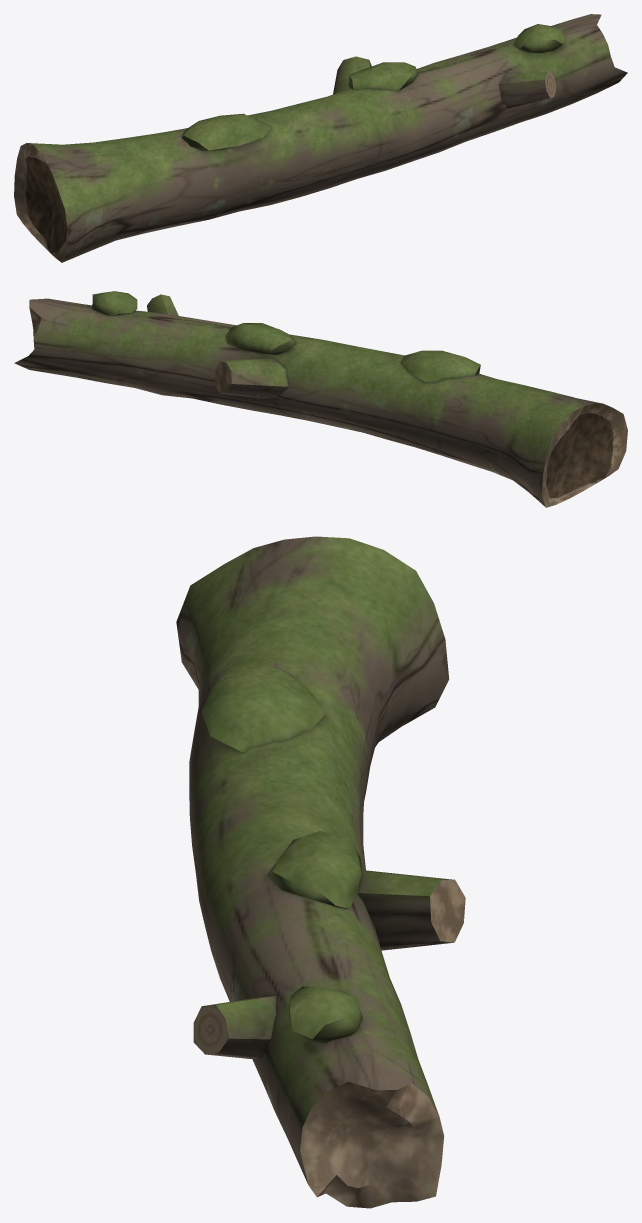
File: fm_log_mossy_fallen_c.glb
3 renders of one model, top to bottom at view 1: azimuth 30°, elevation 25°; view 2: azimuth 150°, elevation 25°; view 3: azimuth 270°, elevation 25°, orthographic. The views are drawn at different scales.
Visible parts, largest first — view 1: fm_log_mossy_fallen_c; view 2: fm_log_mossy_fallen_c; view 3: fm_log_mossy_fallen_c.
Boxes of the visible parts, left/top/right/bottom form: fm_log_mossy_fallen_c: left=14, top=14, right=627, bottom=262; fm_log_mossy_fallen_c: left=14, top=291, right=627, bottom=507; fm_log_mossy_fallen_c: left=176, top=536, right=465, bottom=1208.
Bounding box in the file's own units: 3.1 × 0.4689 × 0.6987.
Materials: 1 (1 with a texture image).
